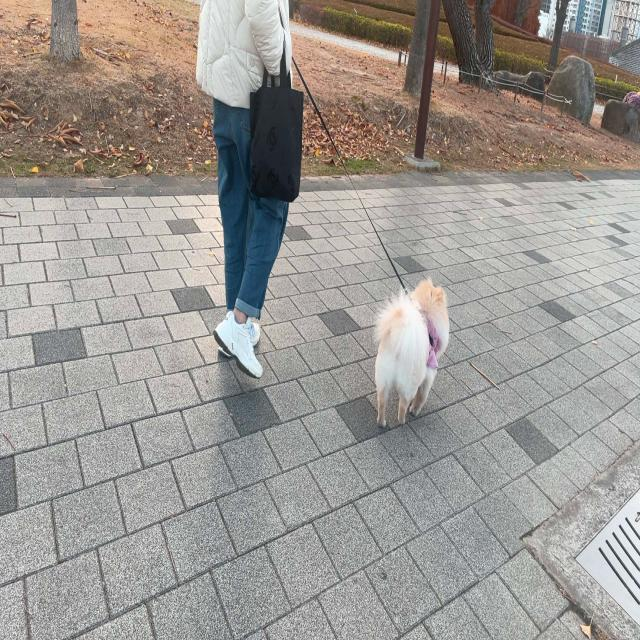Leashed_Dog: (254, 44, 448, 428)
